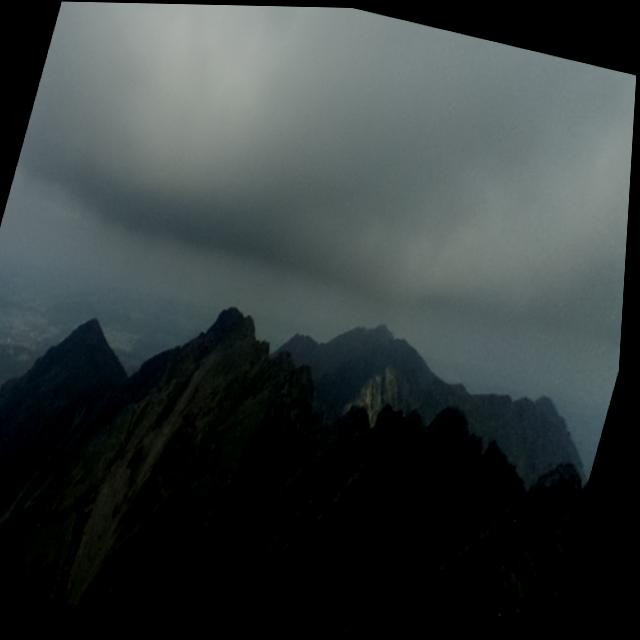Skrajny i Posredni Granat: (22, 107, 463, 527)
Wielka Koszysta i Waksmundzki Wierch: (352, 287, 450, 391)
